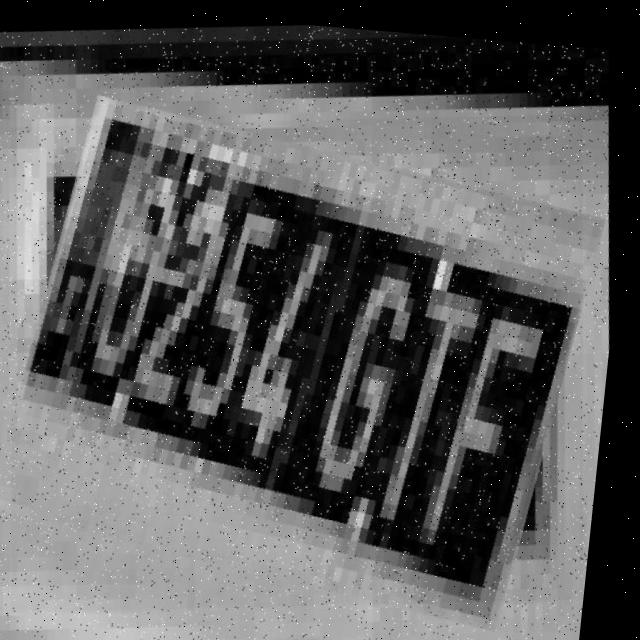LicensePlate: (0, 67, 634, 640)
